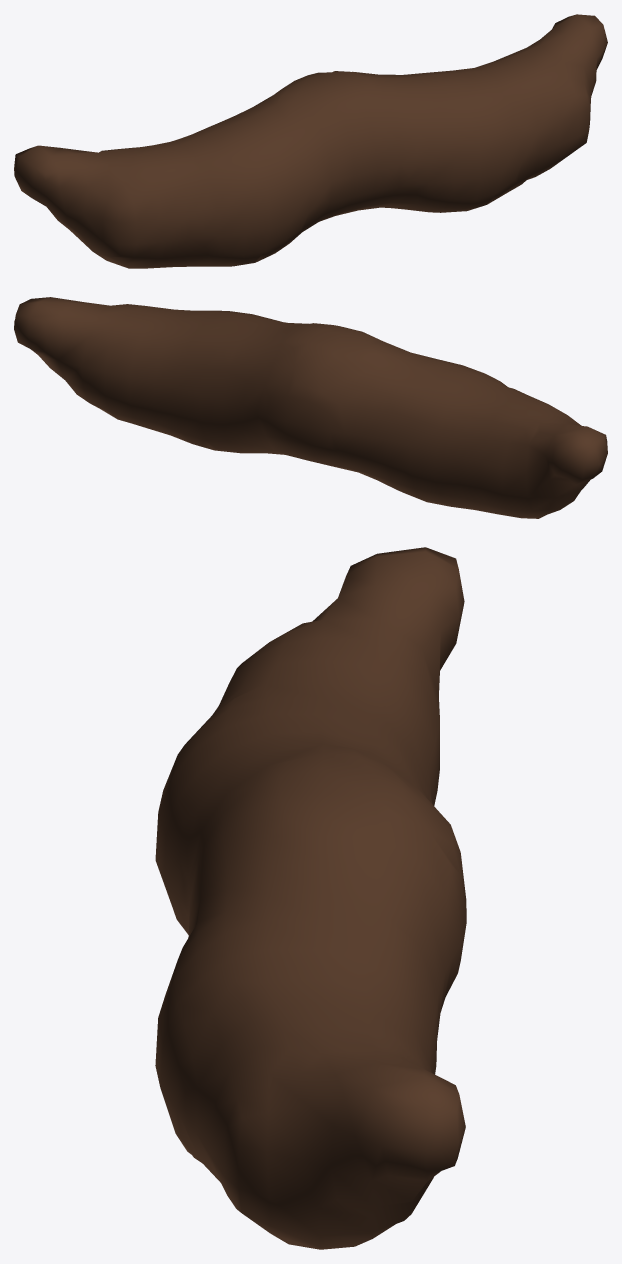
File: moustache_walrus.glb
3 renders of one model, top to bottom at view 1: azimuth 30°, elevation 25°; view 2: azimuth 150°, elevation 25°; view 3: azimuth 270°, elevation 25°, orthographic. The views are drawn at different scales.
Parts seen in each view (by area): view 1: MoustacheWalrus.001; view 2: MoustacheWalrus.001; view 3: MoustacheWalrus.001.
Part boxes in pixels (<box>): MoustacheWalrus.001: <box>14,14,607,268</box>; MoustacheWalrus.001: <box>14,297,607,518</box>; MoustacheWalrus.001: <box>155,547,466,1249</box>.
Size of the model in its own units: 0.1502 by 0.0353 by 0.0346.
